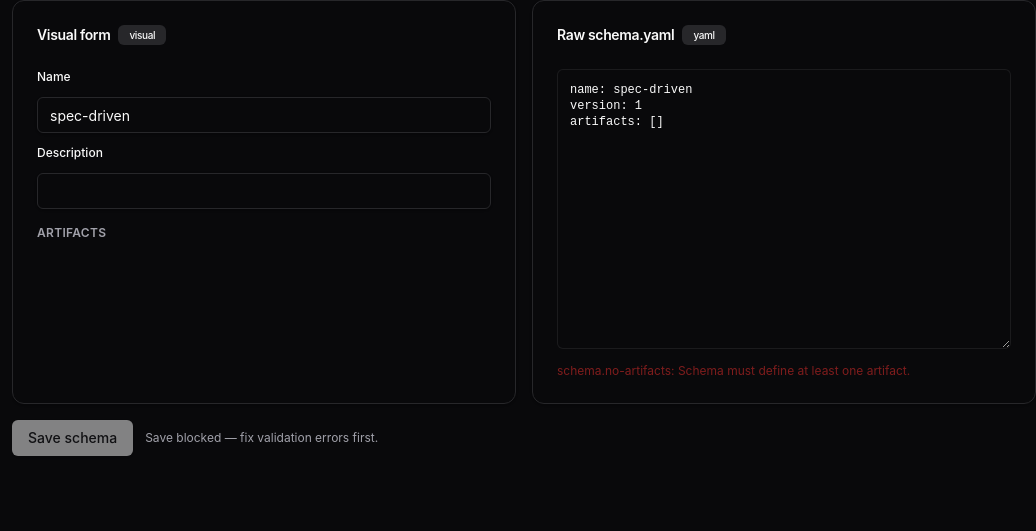
Test: VisualSchemaEditor — two-pane two-way binding (task 6.5) › save is blocked on a schema-rule violation (no artifacts) and unblocked once fixed
This screenshot has width=1036, height=531.
Expected: the button with test id "save-button" is disabled, x1=12 y1=420 x2=133 y2=456
Replace the text in the text box named "Raw schema.yaml" with "name: spec-driven version: 1 artifacts:   - id: proposal     generates: proposal.md " at (784, 209), box x1=557 y1=69 x2=1011 y2=349
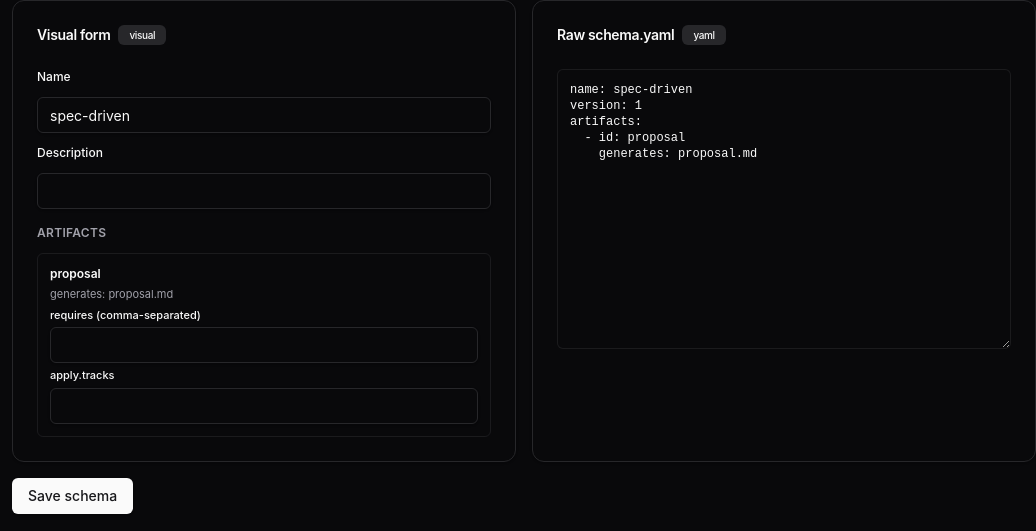
Expected: the button with test id "save-button" is enabled, x1=12 y1=478 x2=133 y2=514
